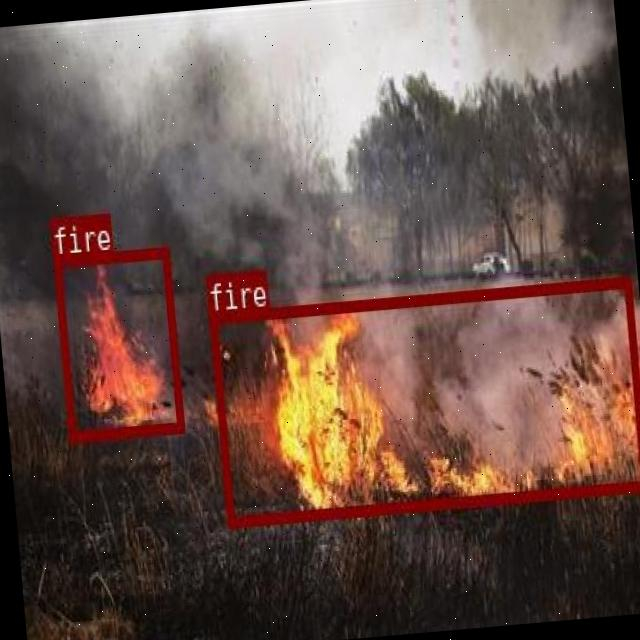fire: (207, 274, 640, 525), (51, 245, 183, 440)
